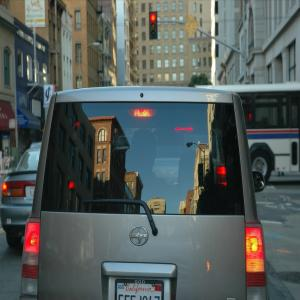Vehicle-registration-plate: (119, 284, 163, 300)
